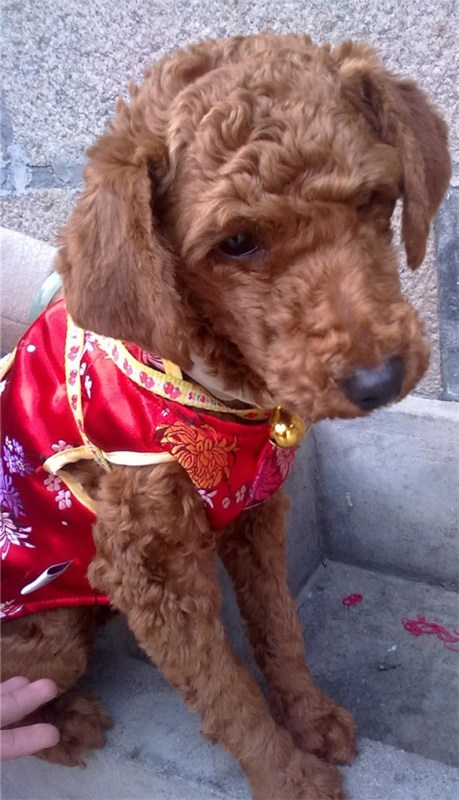dog: (61, 27, 459, 467)
